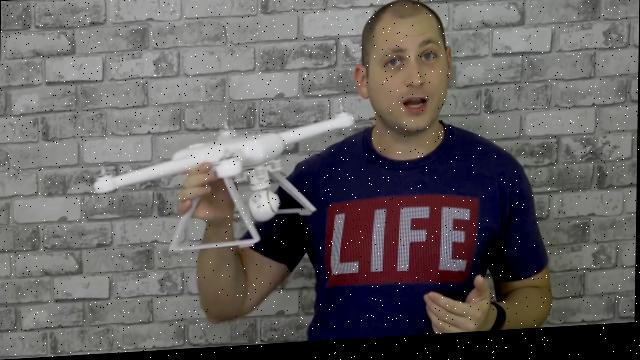drone: (87, 108, 355, 267)
